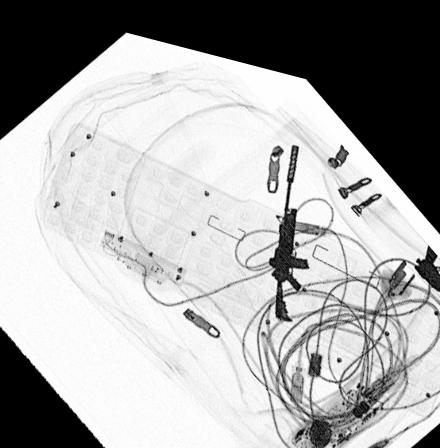Gun: (268, 130, 309, 308), (414, 222, 440, 271)
